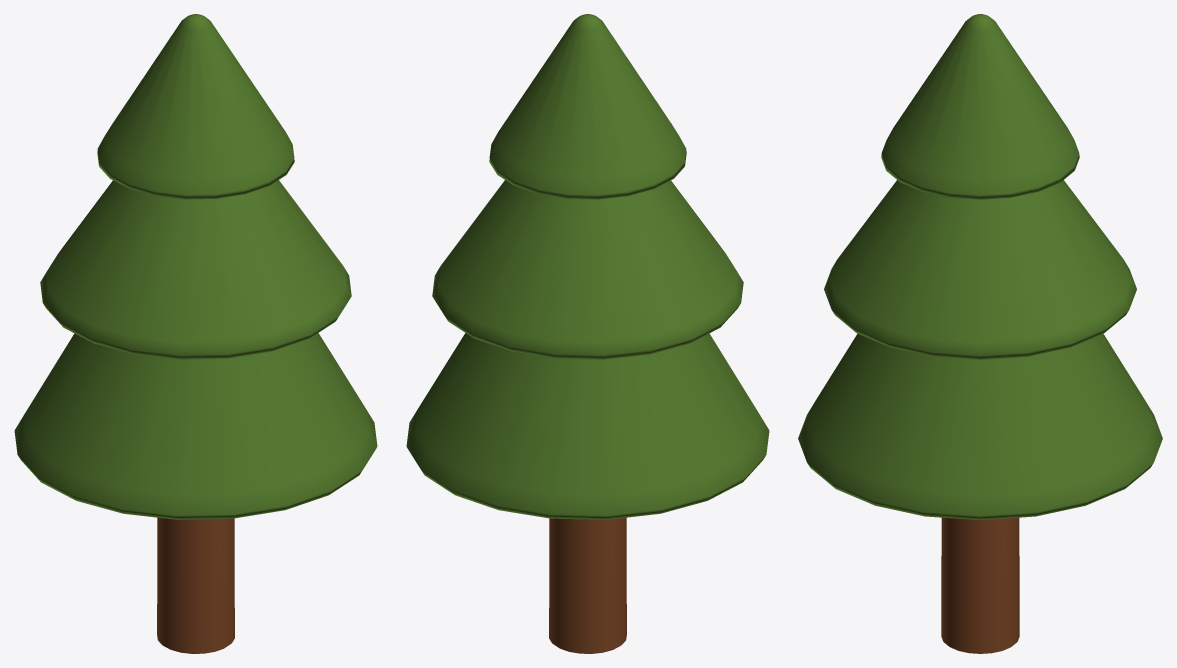
Rendered from stylezed_tree.glb.
The picture shows the model from 3 angles, left to right: view 1: azimuth 30°, elevation 25°; view 2: azimuth 150°, elevation 25°; view 3: azimuth 270°, elevation 25°; orthographic projection.
Visible parts, largest first — view 1: Tree_1.1; view 2: Tree_1.1; view 3: Tree_1.1.
Boxes of the visible parts, x1,y1,x2,y2 form: Tree_1.1: (14,14,377,653); Tree_1.1: (406,14,769,653); Tree_1.1: (798,14,1162,653).
Size of the model in its own units: 0.1069 by 0.2012 by 0.1069.
Materials: 1 (1 with a texture image).
